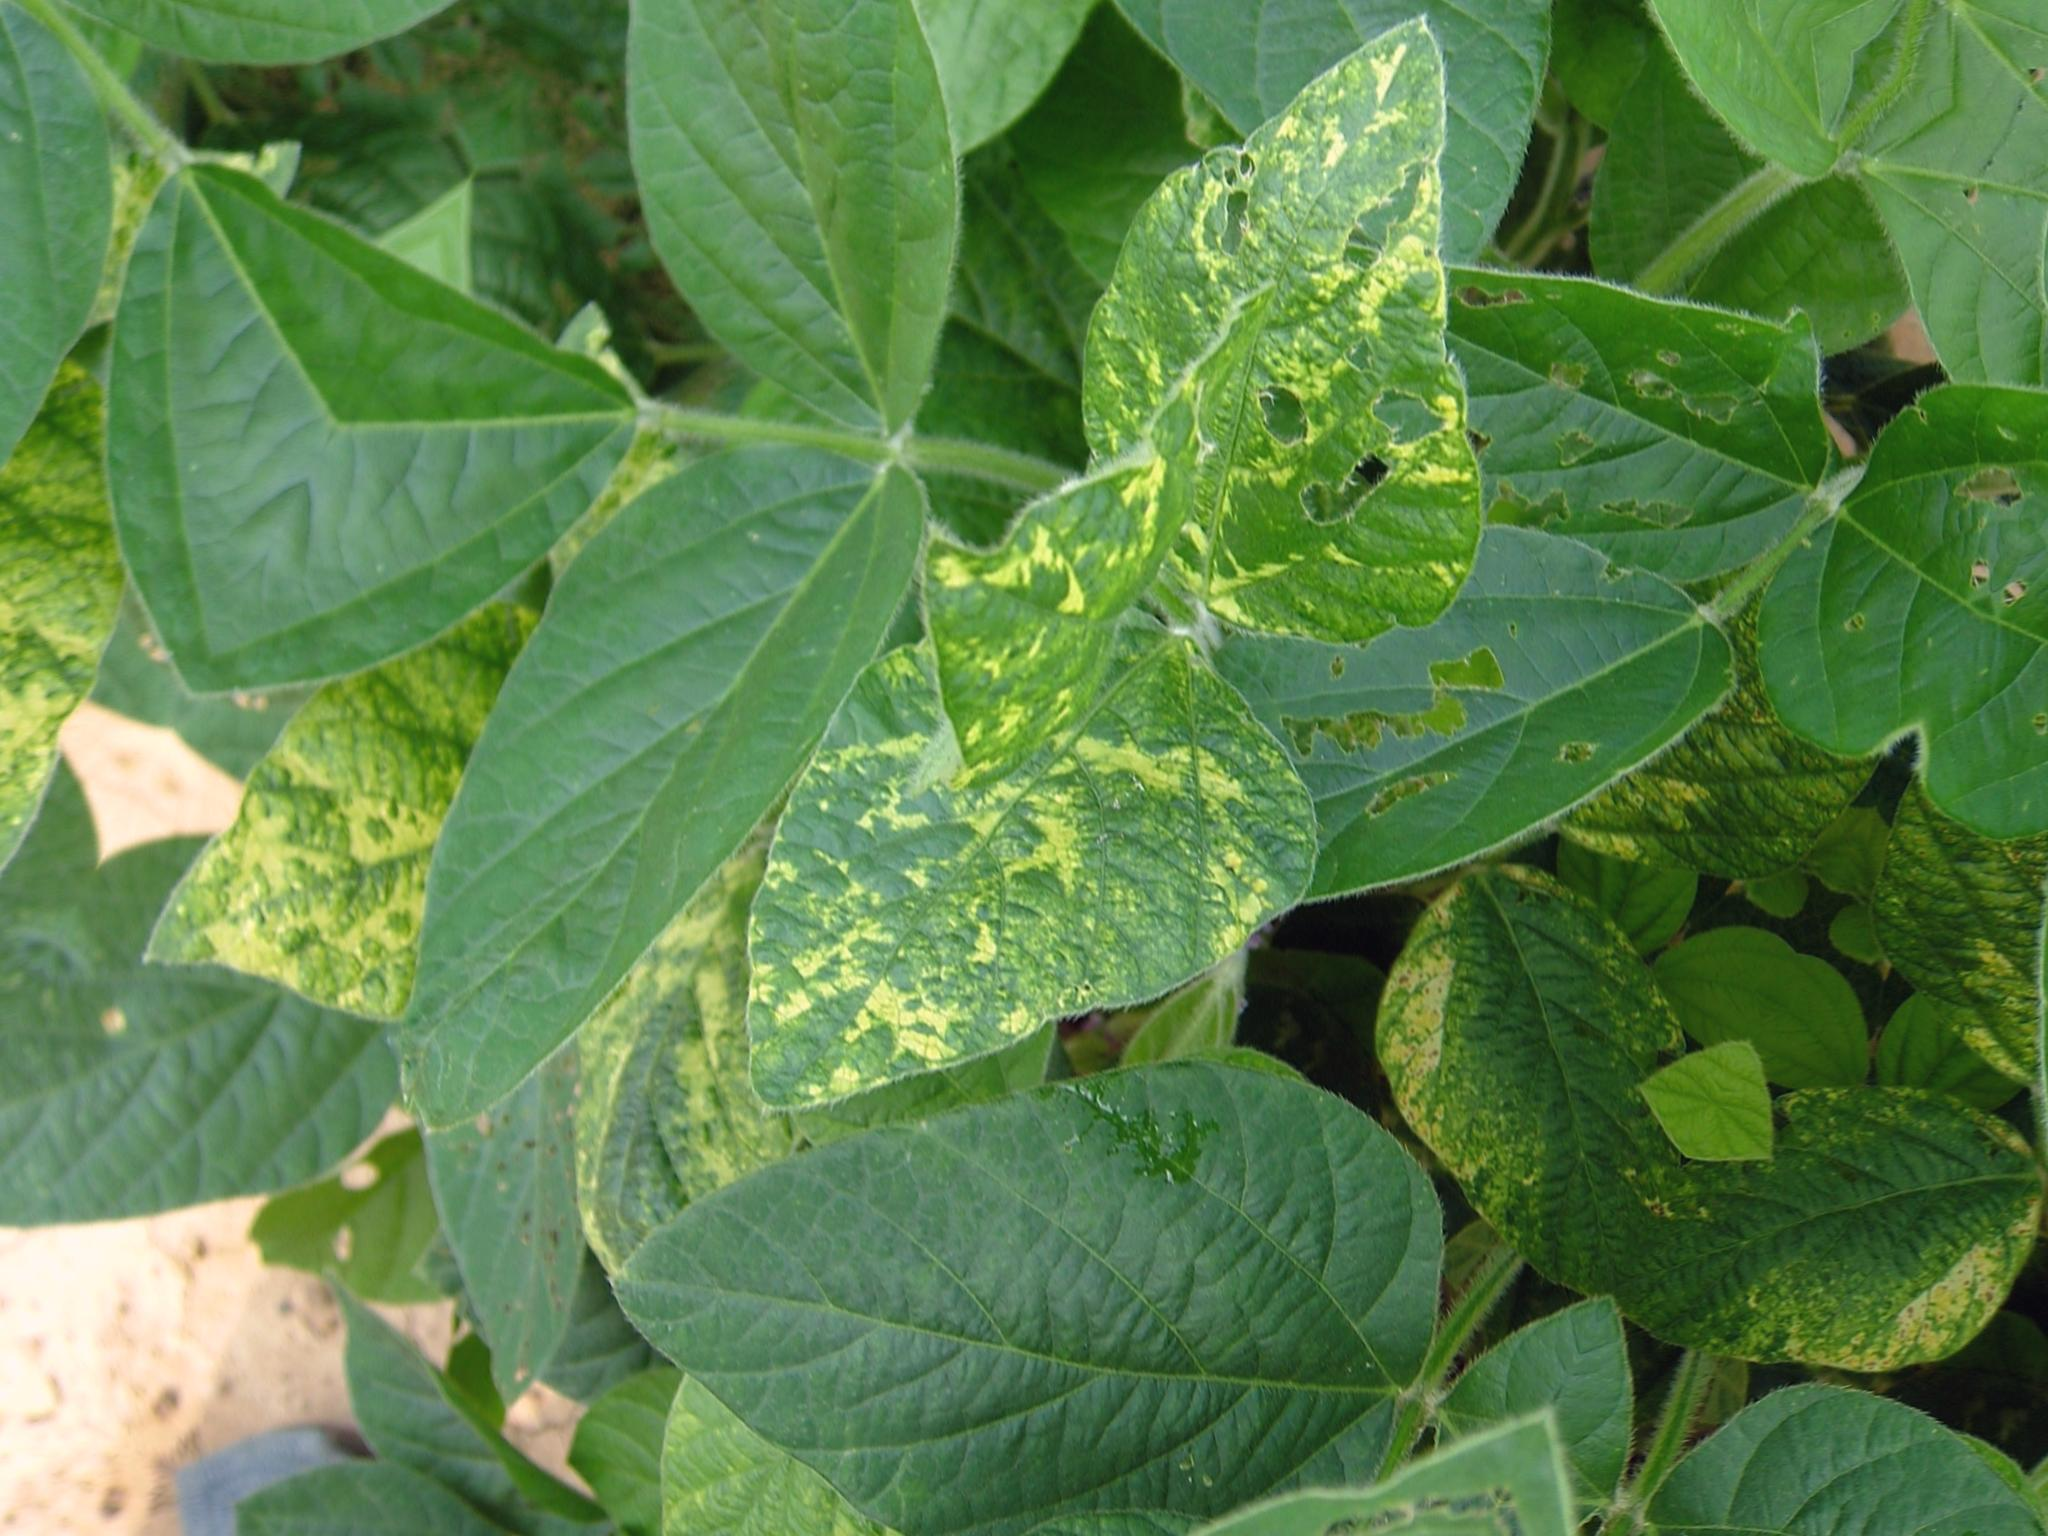Tomato leaf mosaic virus: (303, 342, 965, 1184), (964, 0, 1700, 715), (690, 525, 1367, 1247)
